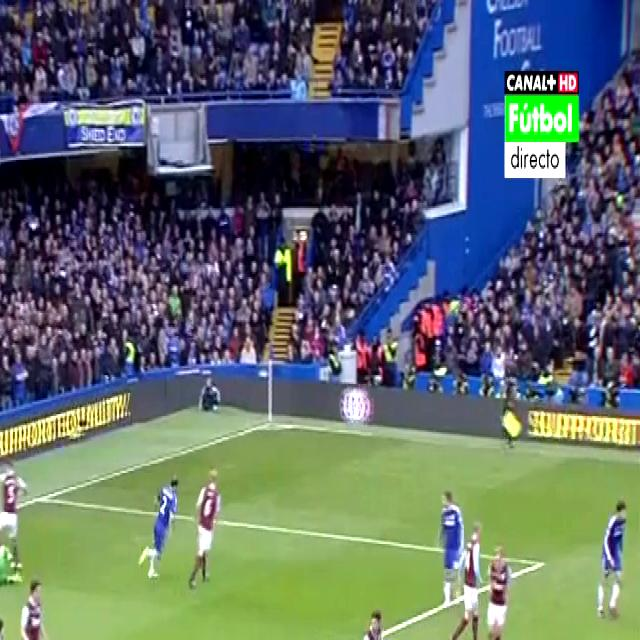goalkeeper: (0, 544, 33, 590)
referee: (496, 364, 524, 456)
soccer-player: (187, 466, 236, 599), (594, 494, 629, 632), (142, 466, 179, 587), (451, 524, 482, 640), (0, 446, 32, 555), (482, 538, 514, 640), (439, 470, 461, 605), (20, 578, 55, 640), (347, 590, 383, 640), (0, 613, 23, 640)
